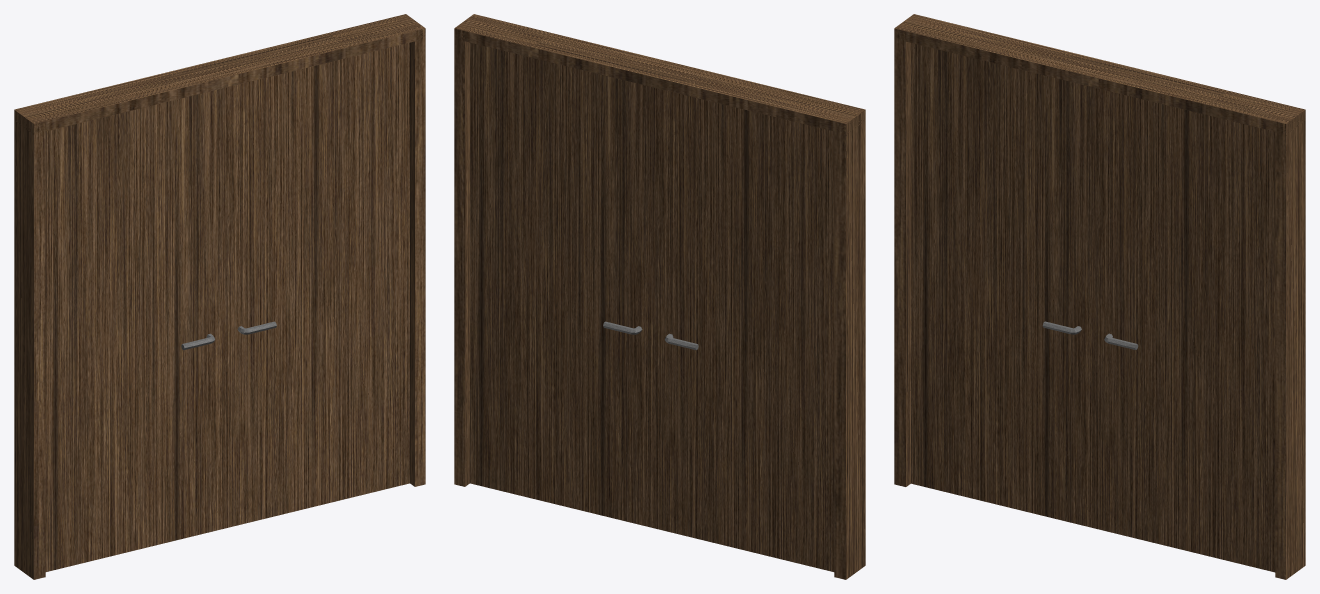
File: DoubleDoors.fbx
3 views of the same model, side by side, from view 1: azimuth 30°, elevation 25°; view 2: azimuth 150°, elevation 25°; view 3: azimuth 330°, elevation 25° (orthographic).
Visible parts, largest first — view 1: Puerta-Madera, Puerta-Madera.001, Puerta-Marco; view 2: Puerta-Madera, Puerta-Madera.001, Puerta-Marco; view 3: Puerta-Madera.001, Puerta-Madera, Puerta-Marco.
Boxes of the visible parts, x1=… form: Puerta-Madera: x1=225, y1=42, x2=409, y2=528; Puerta-Madera.001: x1=45, y1=88, x2=224, y2=571; Puerta-Marco: x1=14, y1=14, x2=425, y2=579; Puerta-Madera: x1=470, y1=42, x2=654, y2=528; Puerta-Madera.001: x1=655, y1=88, x2=834, y2=571; Puerta-Marco: x1=454, y1=14, x2=865, y2=579; Puerta-Madera.001: x1=911, y1=43, x2=1094, y2=528; Puerta-Madera: x1=1095, y1=88, x2=1275, y2=572; Puerta-Marco: x1=894, y1=14, x2=1305, y2=579.
Bounding box in the file's own units: 278 × 309 × 26.8.
Materials: 3 (3 with a texture image).
